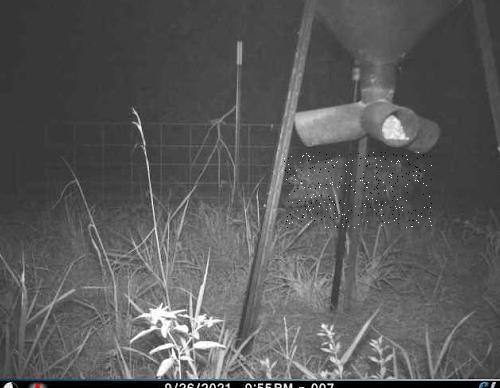Hog: (284, 152, 432, 229)
